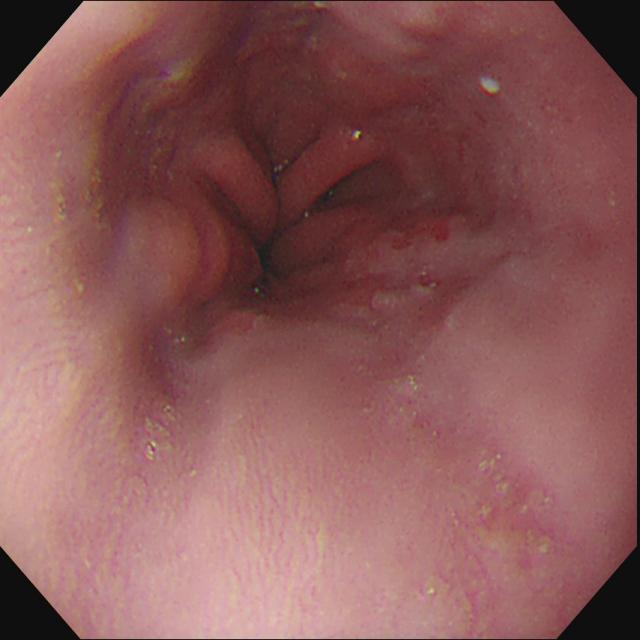I: (135, 70, 428, 344)
